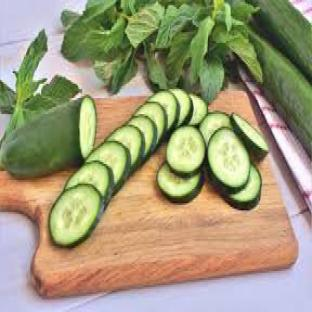Cucumber: (0, 97, 96, 178), (250, 29, 311, 156), (49, 184, 105, 247), (207, 129, 250, 192), (87, 141, 131, 194), (65, 161, 113, 203), (166, 127, 205, 176), (158, 163, 203, 203), (107, 125, 145, 172), (224, 165, 262, 210), (230, 115, 268, 158), (135, 102, 167, 146), (128, 116, 157, 160), (149, 91, 179, 133), (200, 111, 231, 146), (80, 97, 96, 158), (171, 90, 192, 126), (189, 95, 207, 126)
